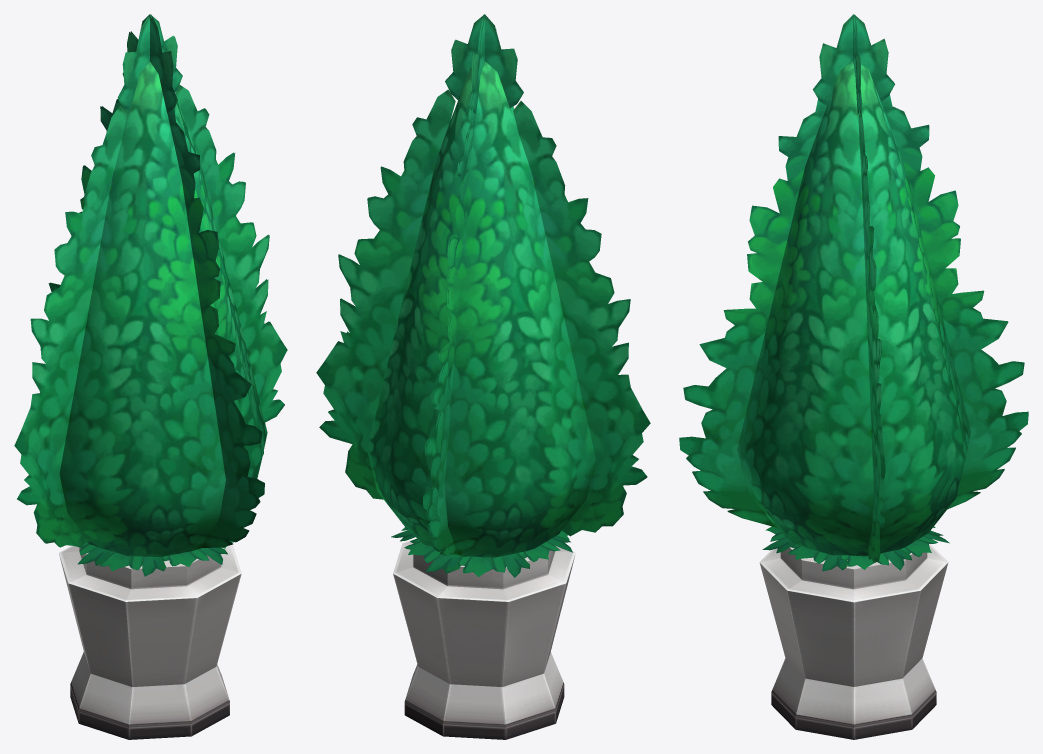
File: my_millenniumlounge_01_plantpot_02.glb
The picture shows the model from 3 angles, left to right: view 1: azimuth 30°, elevation 25°; view 2: azimuth 150°, elevation 25°; view 3: azimuth 270°, elevation 25°; orthographic projection.
Visible parts, largest first — view 1: my_millenniumlounge_01_plantpot_02_leaves, my_millenniumlounge_01_plantpot_02; view 2: my_millenniumlounge_01_plantpot_02_leaves, my_millenniumlounge_01_plantpot_02; view 3: my_millenniumlounge_01_plantpot_02_leaves, my_millenniumlounge_01_plantpot_02.
Part boxes in pixels (x1=…): my_millenniumlounge_01_plantpot_02_leaves: x1=14, y1=14, x2=287, y2=576; my_millenniumlounge_01_plantpot_02: x1=59, y1=544, x2=241, y2=739; my_millenniumlounge_01_plantpot_02_leaves: x1=316, y1=14, x2=650, y2=577; my_millenniumlounge_01_plantpot_02: x1=393, y1=538, x2=575, y2=739; my_millenniumlounge_01_plantpot_02_leaves: x1=679, y1=14, x2=1028, y2=571; my_millenniumlounge_01_plantpot_02: x1=759, y1=544, x2=948, y2=739.
Size of the model in its own units: 0.0045 by 0.0098 by 0.0045.
1 material, 1 textured.
